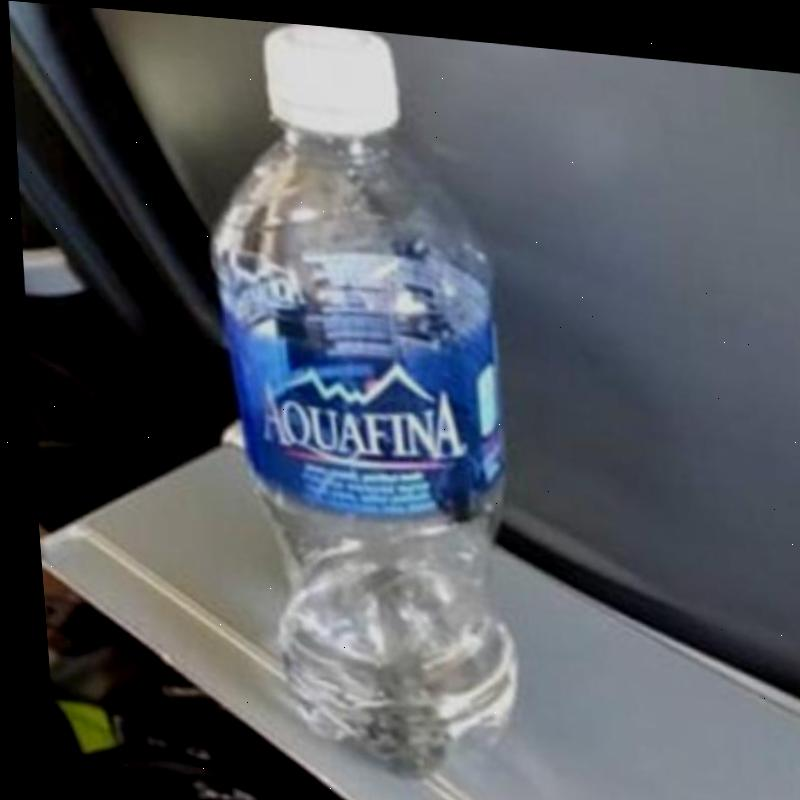botella: (181, 12, 527, 780)
